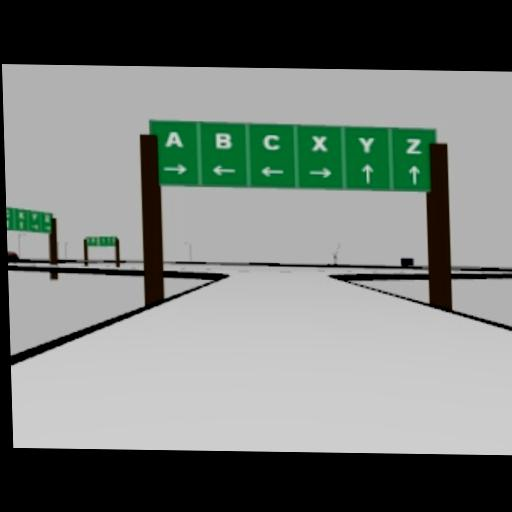A: (164, 130, 184, 147)
B: (213, 131, 231, 149)
C: (261, 134, 281, 150)
Left: (259, 165, 285, 177), (307, 166, 331, 177), (163, 163, 187, 174), (211, 164, 235, 174)
Straight: (360, 164, 374, 183), (408, 164, 420, 184)
X: (311, 135, 327, 151)
Y: (357, 136, 375, 152)
Z: (404, 137, 422, 153)
